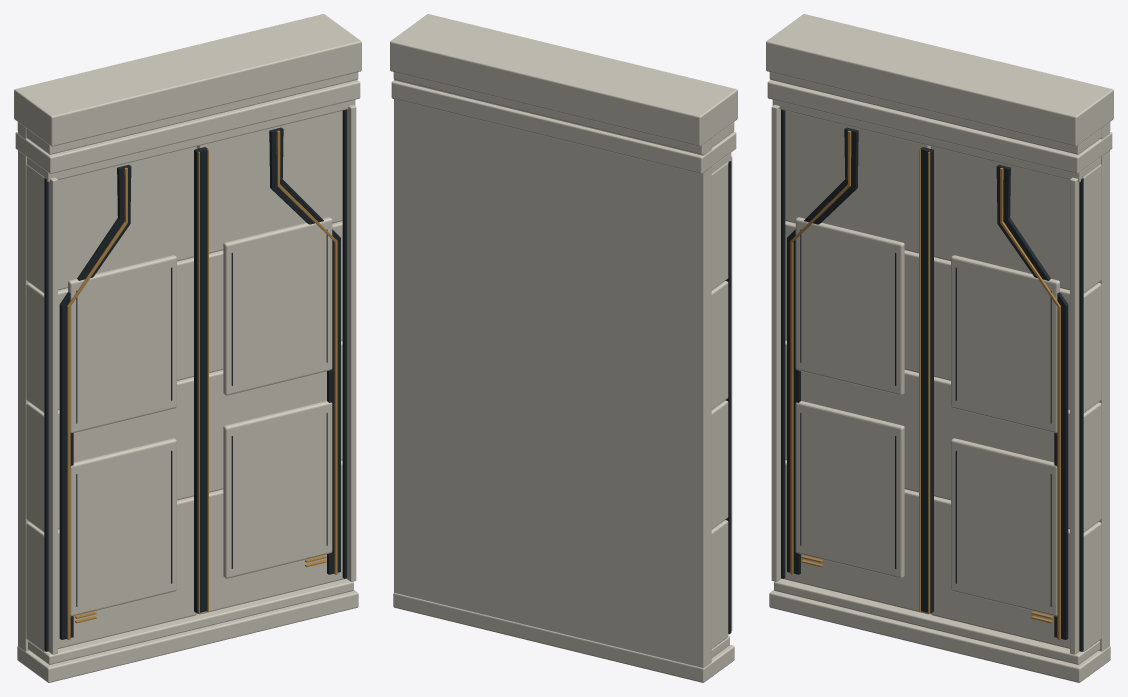
The model's file is SM_Aurelion_KIT_Z08Wall_4x7.fbx.
The picture shows the model from 3 angles, left to right: view 1: azimuth 30°, elevation 25°; view 2: azimuth 150°, elevation 25°; view 3: azimuth 330°, elevation 25°; orthographic projection.
Parts seen in each view (by area): view 1: SM_Aurelion_KIT_Z08Wall_4x7; view 2: SM_Aurelion_KIT_Z08Wall_4x7; view 3: SM_Aurelion_KIT_Z08Wall_4x7.
Part boxes in pixels (x1,y1,x2,y2): SM_Aurelion_KIT_Z08Wall_4x7: [14, 14, 361, 682]; SM_Aurelion_KIT_Z08Wall_4x7: [390, 14, 737, 682]; SM_Aurelion_KIT_Z08Wall_4x7: [766, 14, 1113, 682].
Bounding box in the file's own units: 400 × 85 × 700.
